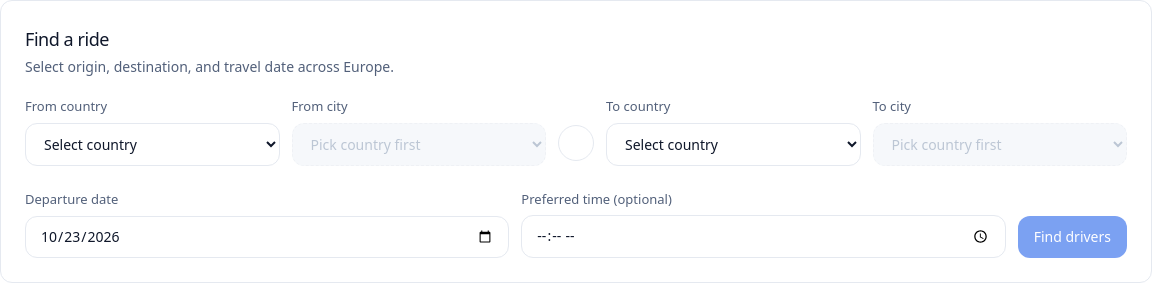
Test: TripSearch.vue › enables city dropdown and populates cities when country is selected
Select "Sweden" in the dropdown labelled "From country": (152, 144) top-left (25, 122), bottom-right (280, 166)
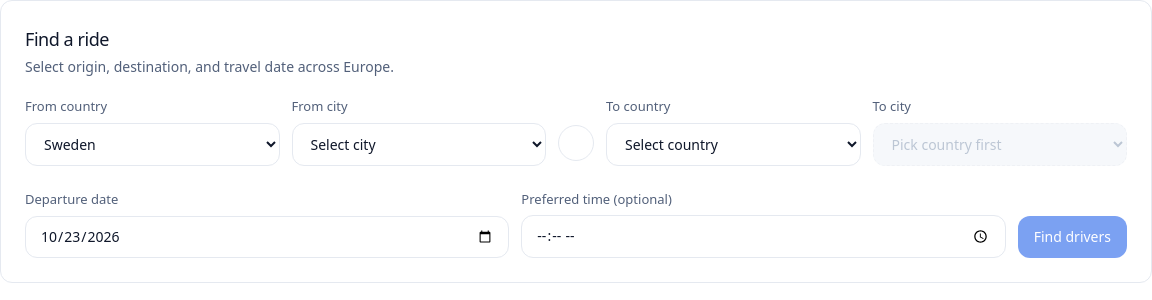
Expected: the dropdown labelled "From city" is enabled, top-left (292, 122), bottom-right (546, 166)
